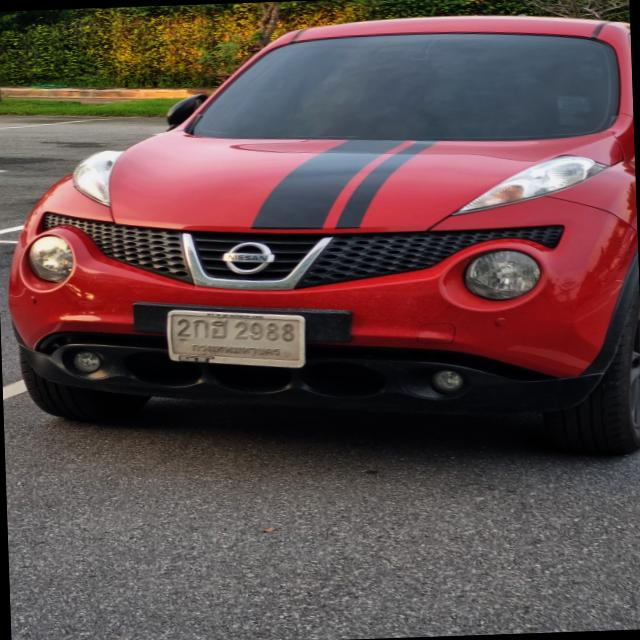license_plate: (164, 303, 307, 374)
